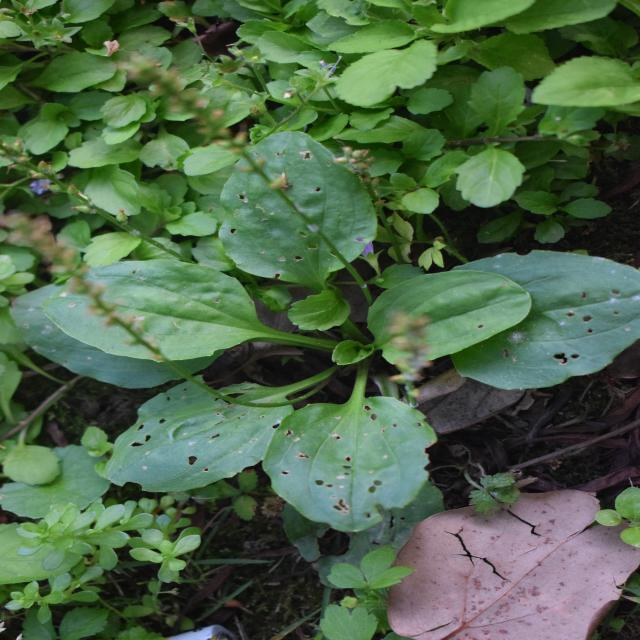plantain: (122, 38, 506, 612)
